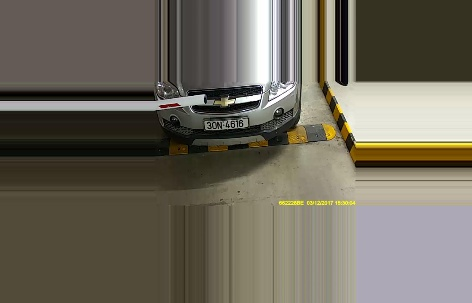plate: (204, 115, 252, 133)
